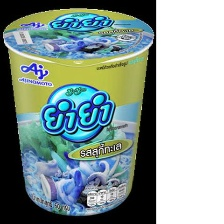paper_cup: (0, 3, 156, 220)
